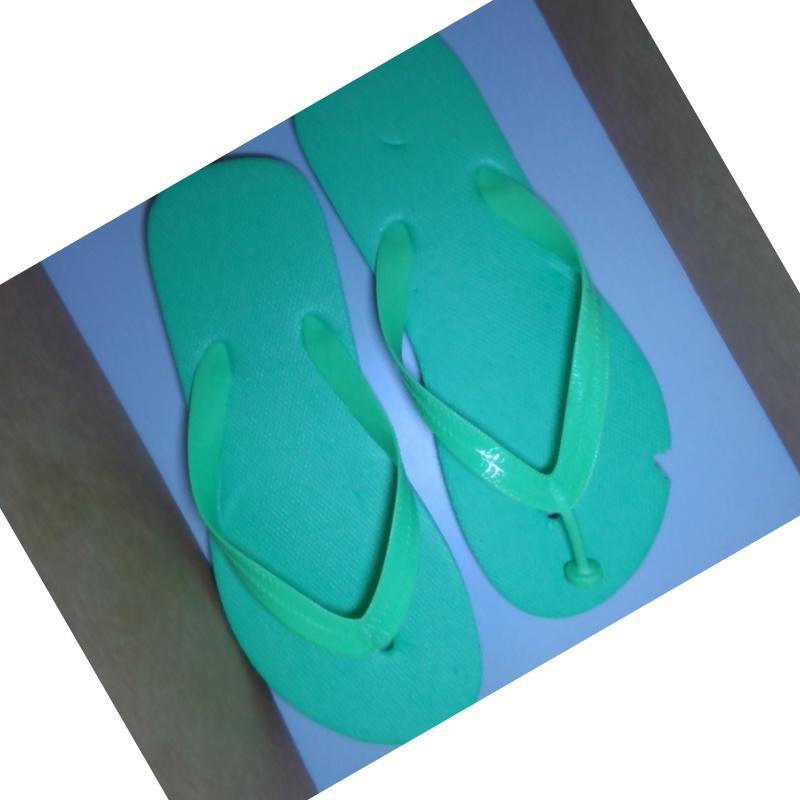chipped: (636, 430, 690, 498)
detached: (552, 546, 619, 604)
